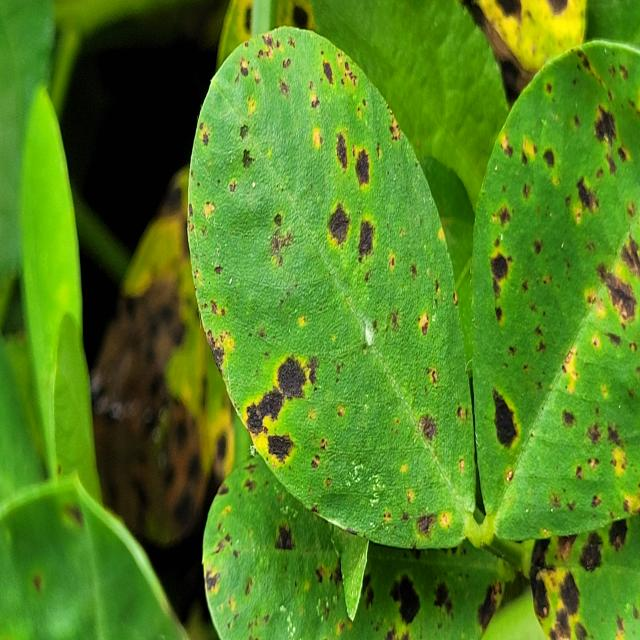Ground nut_tikka leaf spot: (184, 26, 478, 553), (465, 31, 640, 544)
